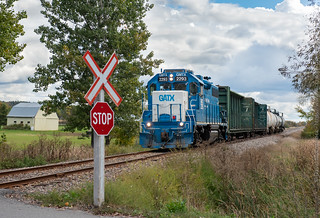StopSign: (90, 102, 114, 135)
